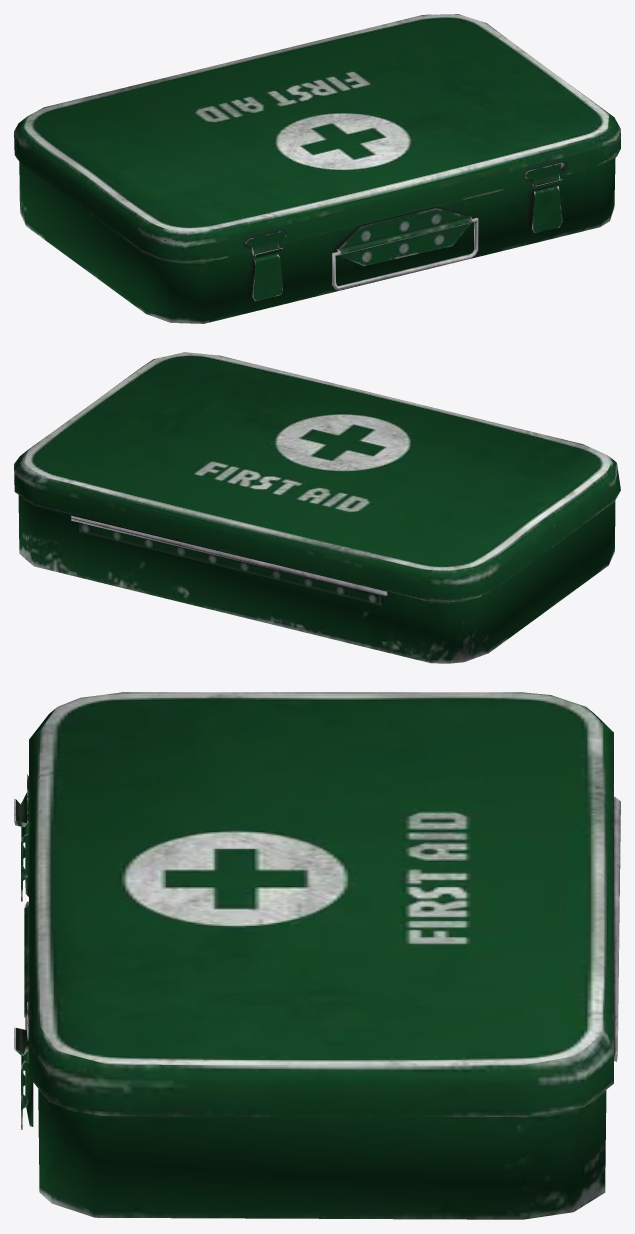
File: medical_box.glb
3 views of the same model, one above another, from view 1: azimuth 30°, elevation 25°; view 2: azimuth 150°, elevation 25°; view 3: azimuth 270°, elevation 25° (orthographic). The views are drawn at different scales.
Parts seen in each view (by area): view 1: medical_box_lid, medical_box, medical_box_latch, medical_box_handle; view 2: medical_box_lid, medical_box; view 3: medical_box_lid, medical_box, medical_box_latch.
Boxes of the visible parts, <box> form: medical_box_lid: <box>14,14,620,262</box>; medical_box: <box>19,157,615,323</box>; medical_box_latch: <box>251,186,562,301</box>; medical_box_handle: <box>332,217,478,290</box>; medical_box_lid: <box>14,352,620,601</box>; medical_box: <box>18,495,615,663</box>; medical_box_lid: <box>14,692,613,1117</box>; medical_box: <box>24,796,620,1219</box>; medical_box_latch: <box>21,822,28,1129</box>.
Bounding box in the file's own units: 0.5255 × 0.0967 × 0.3501.
1 material, 1 textured.
